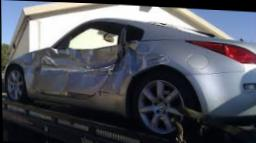Door: (33, 30, 144, 92)
Fender: (99, 38, 184, 96), (7, 48, 44, 96)
